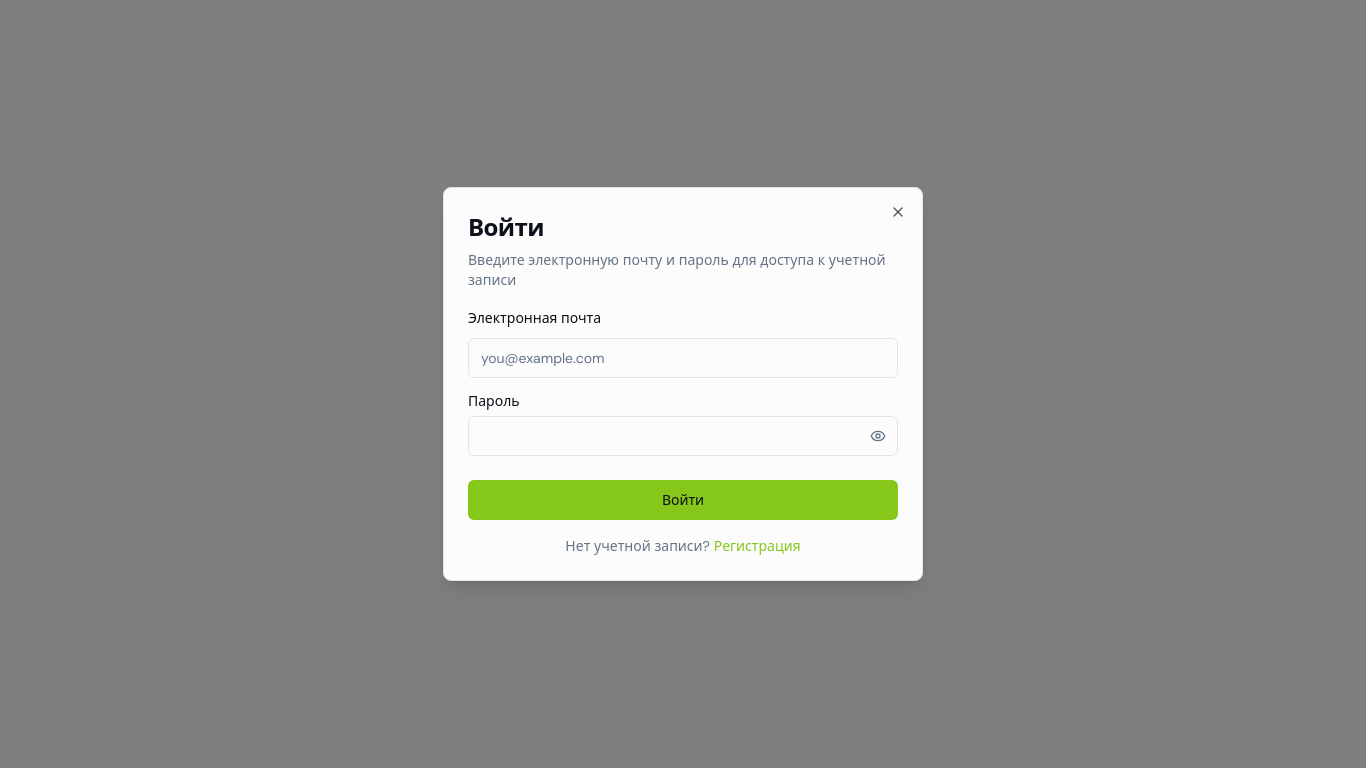
credentials the server refused, in ru › is explained in the login form's own language
The image size is (1366, 768).
Type "user@test.com" into the field labelled "Электронная почта". click: {"x": 683, "y": 358}
box: x1=468 y1=338 x2=898 y2=378
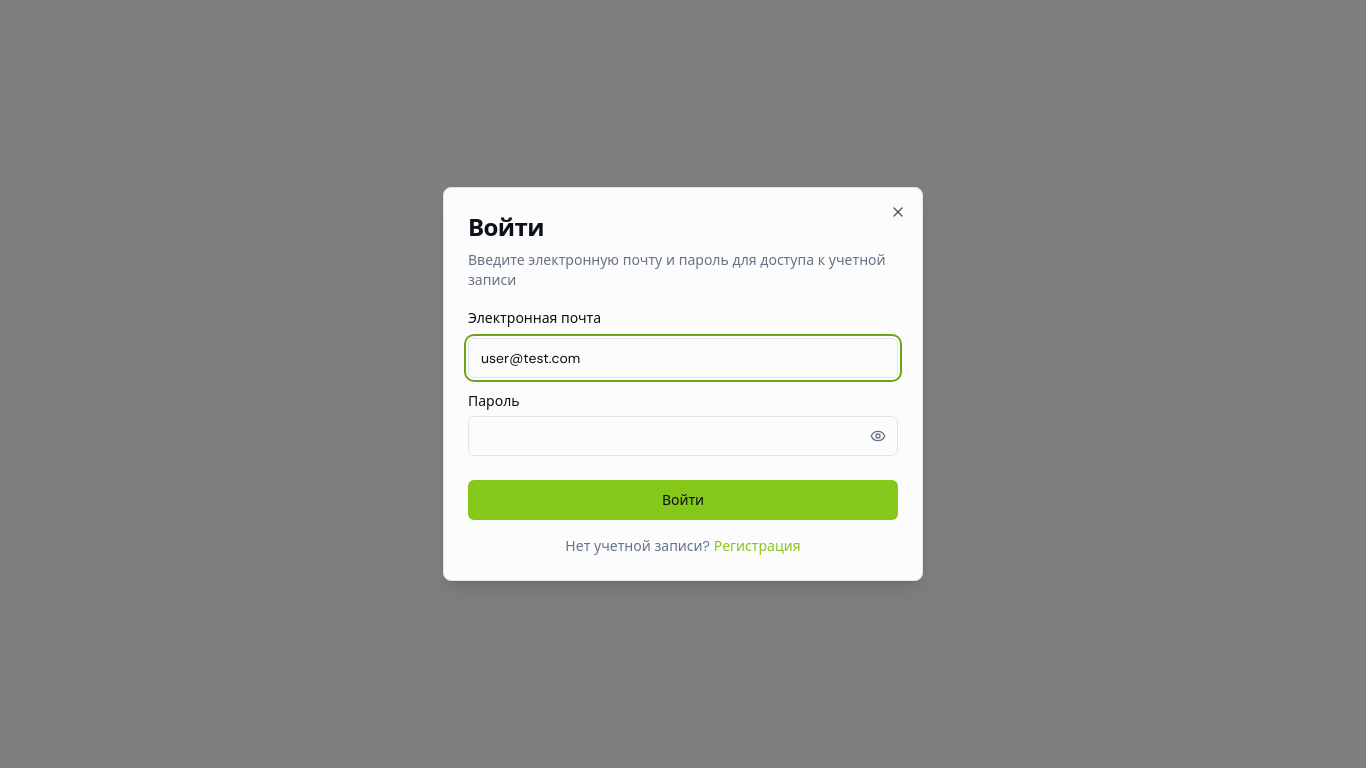
Type "validpass1" into the password field labelled "Пароль". click: {"x": 683, "y": 436}
box: x1=468 y1=416 x2=898 y2=456
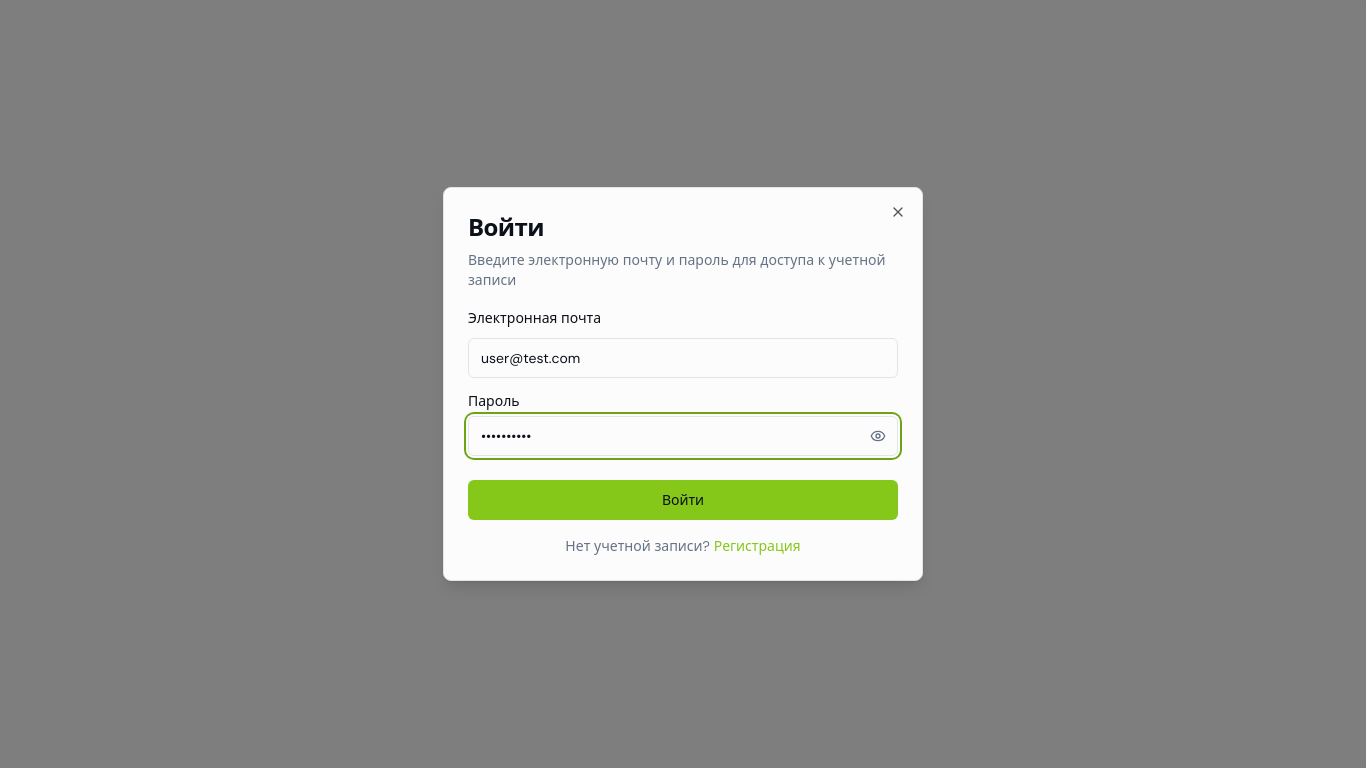
Click the button "Войти". click: {"x": 683, "y": 500}
box: x1=468 y1=480 x2=898 y2=520
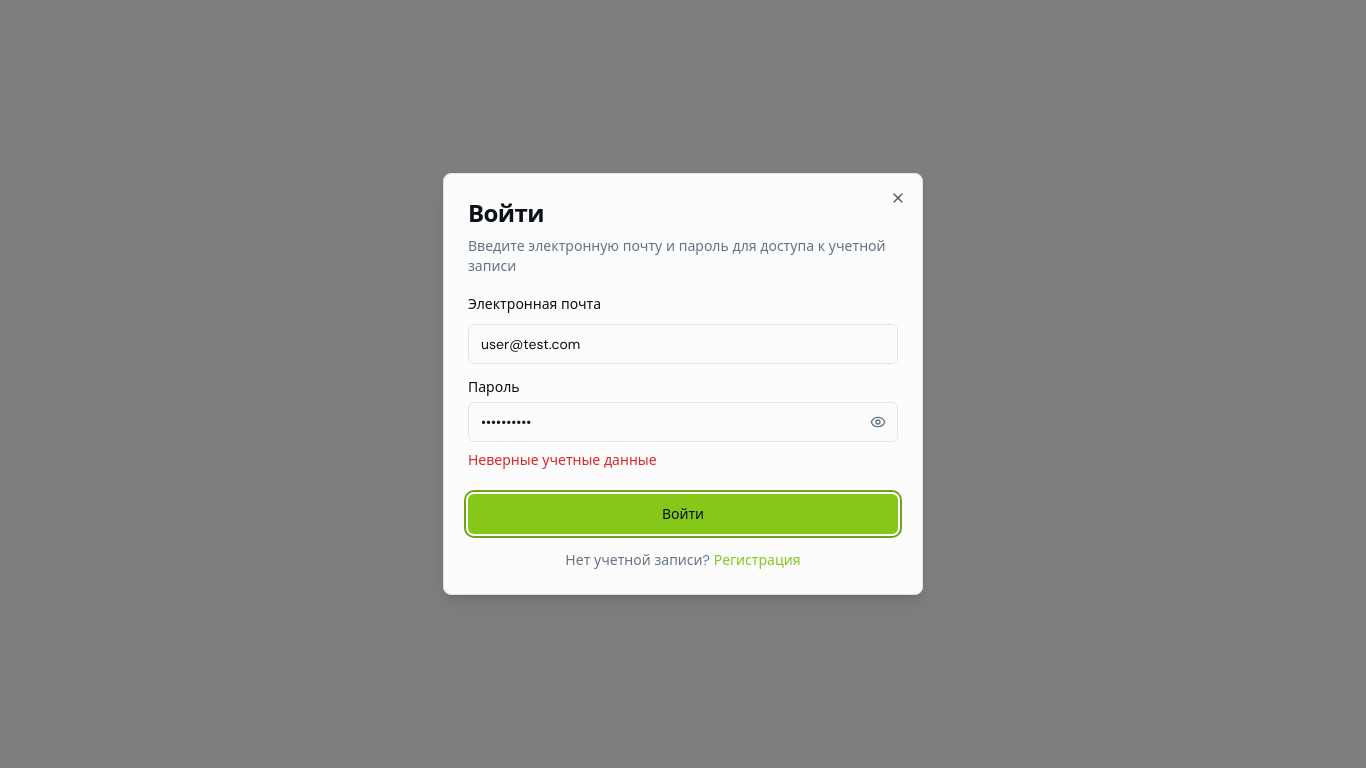
Expected: the text "Неверные учетные данные" is shown, x1=468 y1=451 x2=657 y2=469
